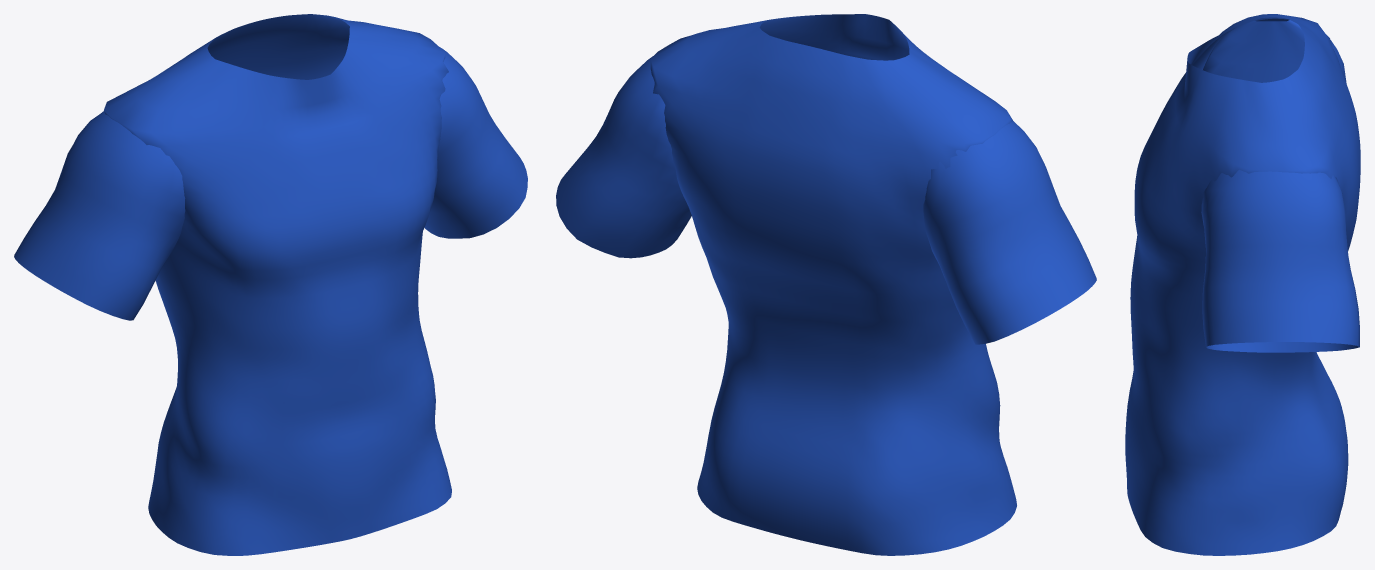
Rendered from garment.glb.
3 views of the same model, side by side, from view 1: azimuth 30°, elevation 25°; view 2: azimuth 150°, elevation 25°; view 3: azimuth 270°, elevation 25° (orthographic). The views are drawn at different scales.
Visible parts, largest first — view 1: geometry_0; view 2: geometry_0; view 3: geometry_0.
Part boxes in pixels (x1=…): geometry_0: x1=14, y1=14, x2=527, y2=555; geometry_0: x1=556, y1=14, x2=1096, y2=555; geometry_0: x1=1125, y1=14, x2=1360, y2=555.
Size of the model in its own units: 0.7286 by 0.648 by 0.3097.
Materials: 1 (1 with a texture image).
